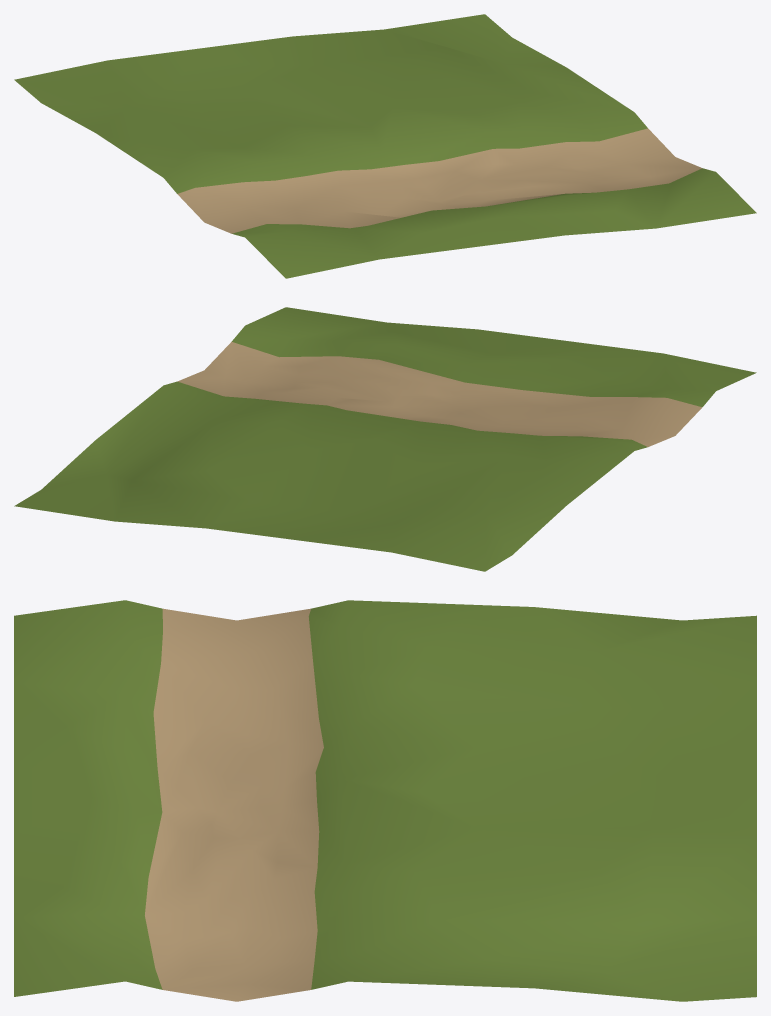
Rendered from rpgpp_ag_terrain_path_04_10x10m_slope_a.fbx.
The picture shows the model from 3 angles, top to bottom: view 1: azimuth 30°, elevation 25°; view 2: azimuth 150°, elevation 25°; view 3: azimuth 270°, elevation 25°; orthographic projection. The views are drawn at different scales.
Visible parts, largest first — view 1: rpgpp_ag_terrain_path_04_10x10m_slope_a; view 2: rpgpp_ag_terrain_path_04_10x10m_slope_a; view 3: rpgpp_ag_terrain_path_04_10x10m_slope_a.
Boxes of the visible parts, x1,y1,x2,y2 form: rpgpp_ag_terrain_path_04_10x10m_slope_a: (14, 14, 756, 278); rpgpp_ag_terrain_path_04_10x10m_slope_a: (14, 307, 756, 571); rpgpp_ag_terrain_path_04_10x10m_slope_a: (14, 600, 756, 1001).
Bounding box in the file's own units: 10 × 1.3 × 10.
